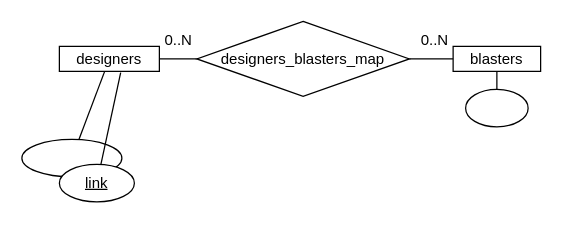
The diagram is 563 pixels wide and 235 high, and some of its shapes have lost their labels. Each missing label, with the centre of its shape:
id: (x=496, y=107)
name: (x=71, y=157)
